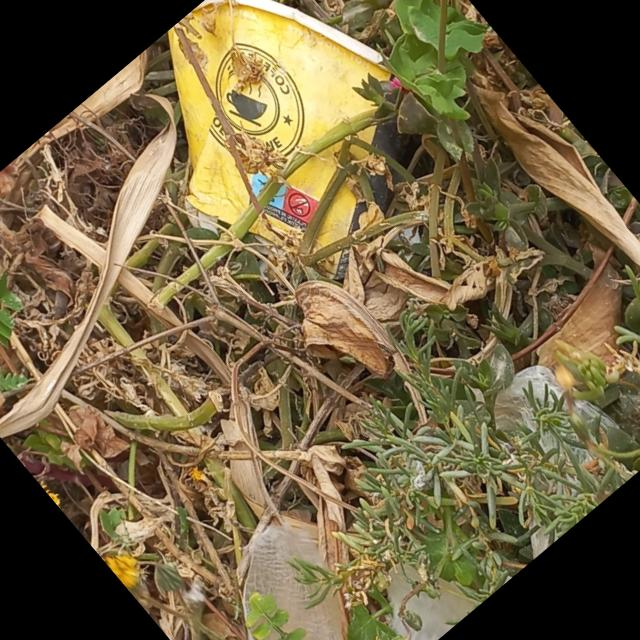Cup: (168, 0, 423, 284)
Other plastic: (494, 357, 613, 461), (246, 526, 344, 640), (377, 562, 473, 640)
